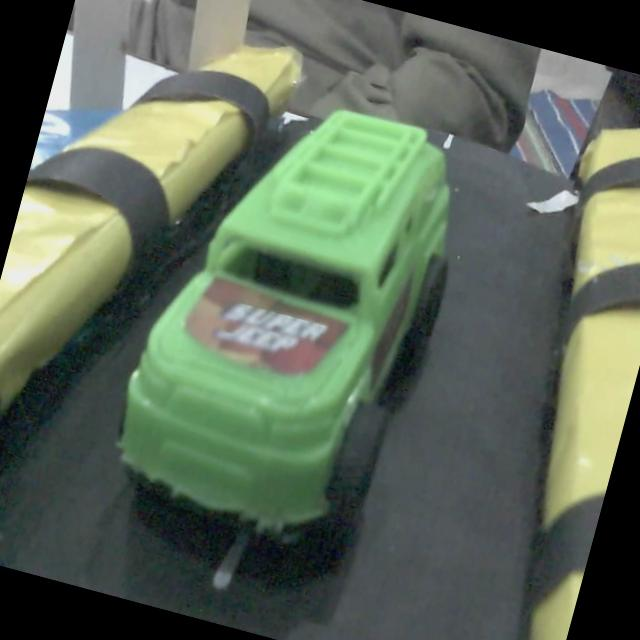OneCar: (81, 2, 548, 586)
